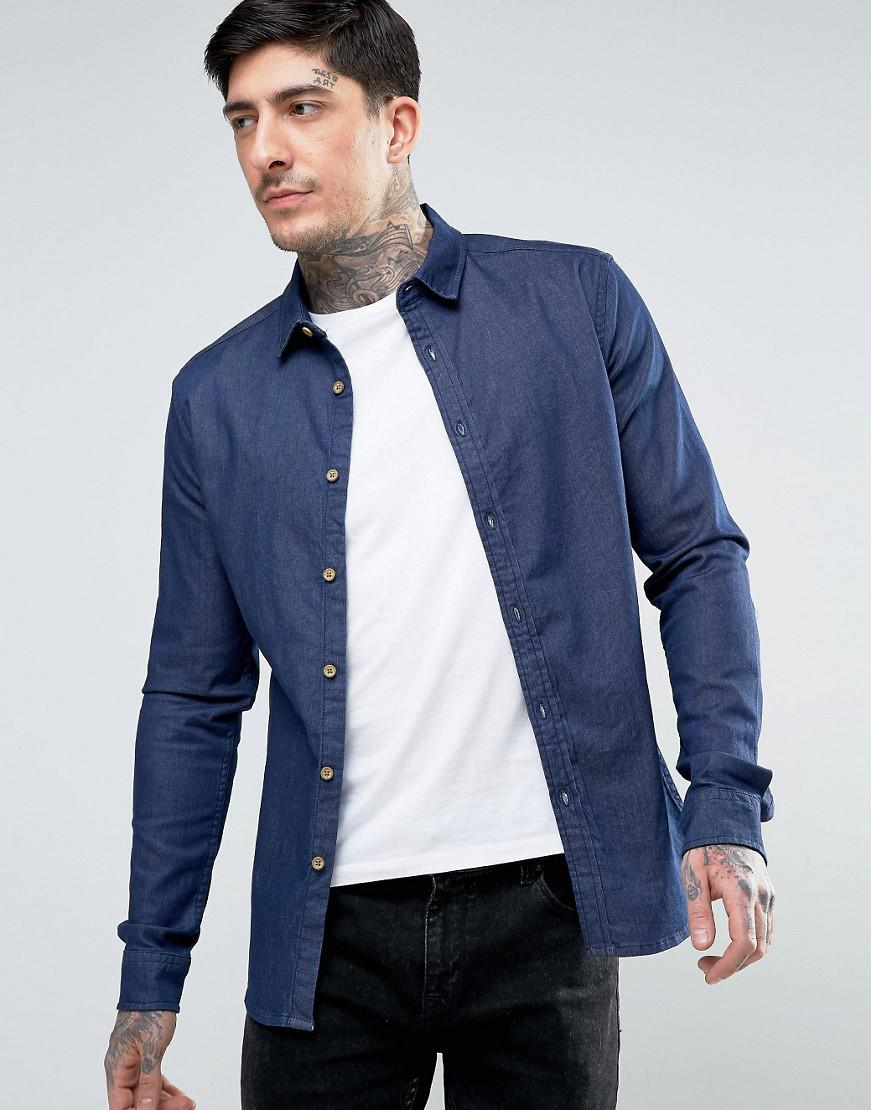teeshirt: (118, 218, 785, 1059)
